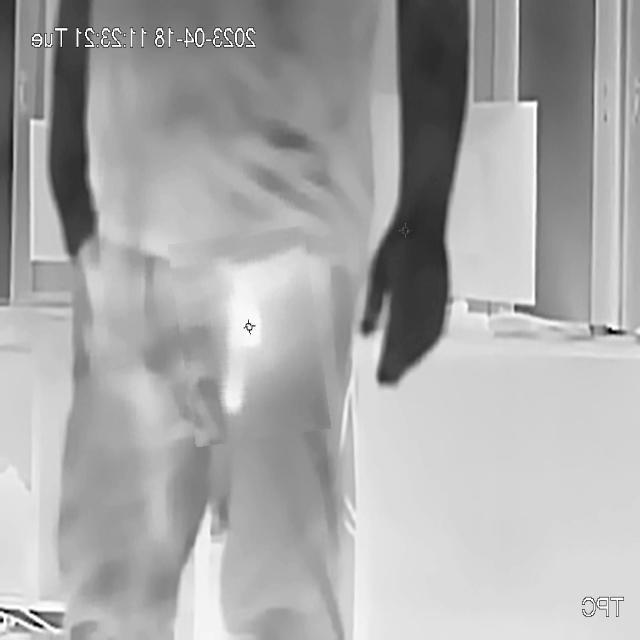Weapon: (174, 230, 324, 443)
